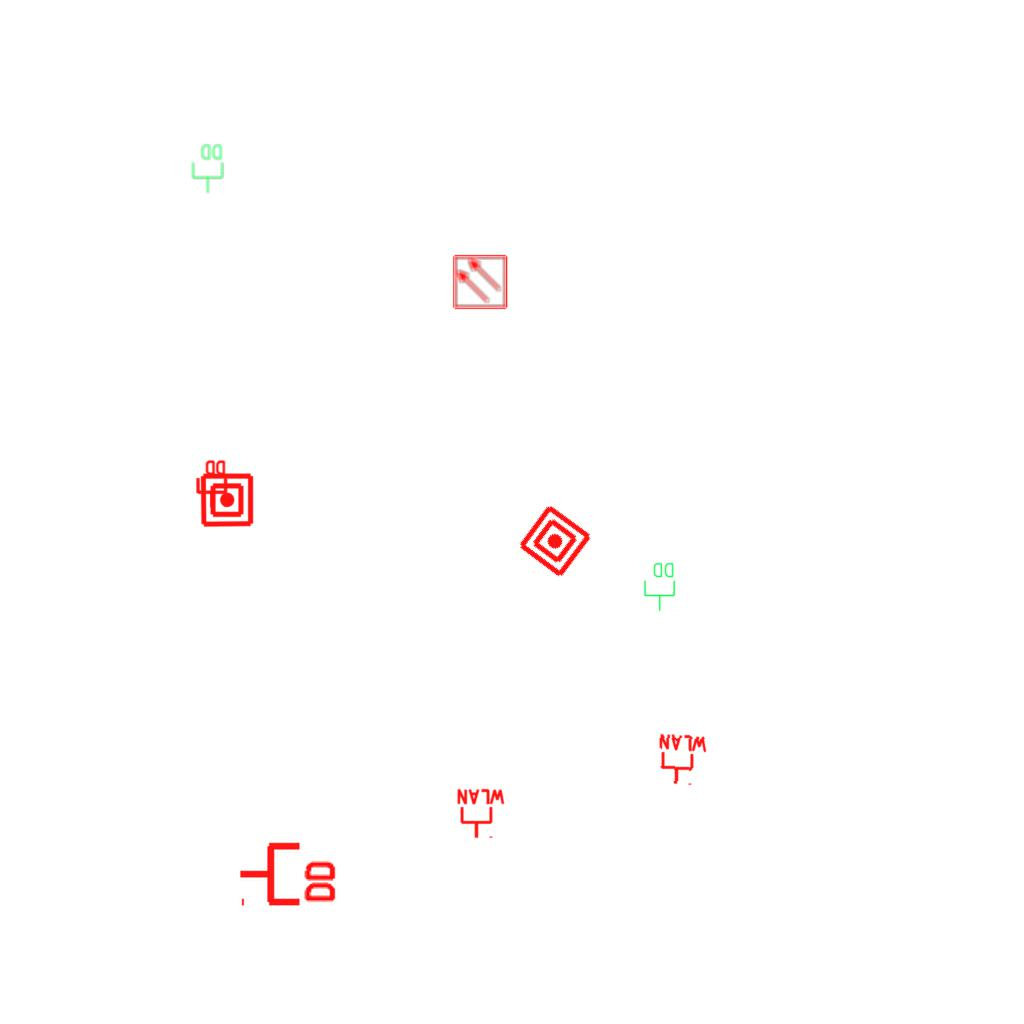Datenanschluss_zweifach: (237, 838, 340, 907), (191, 143, 225, 194), (194, 458, 228, 509), (643, 561, 677, 612)
NAM-Nichtautomatischer_Melder: (515, 501, 595, 581), (199, 472, 255, 528)
RMO_Rauchmelder_optischer: (452, 254, 508, 310)
WLAN: (654, 732, 710, 788), (455, 788, 507, 840)
